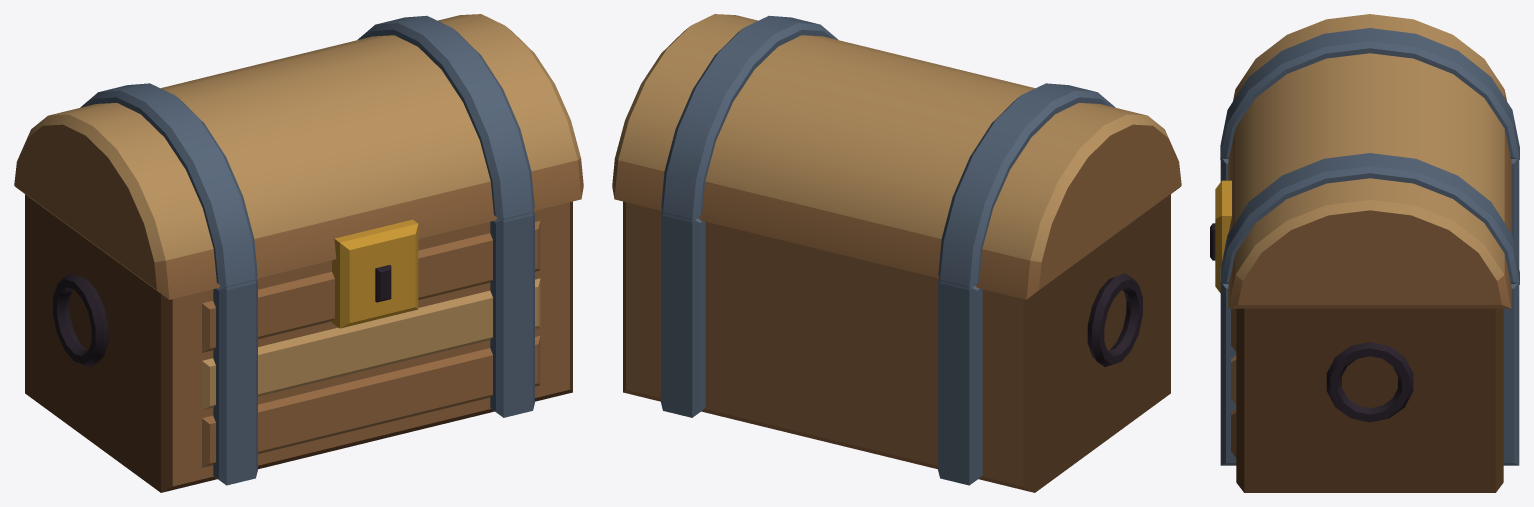
The model's file is Chest_11.glb.
3 renders of one model, left to right at view 1: azimuth 30°, elevation 25°; view 2: azimuth 150°, elevation 25°; view 3: azimuth 270°, elevation 25°, orthographic. The views are drawn at different scales.
Visible parts, largest first — view 1: Chest_11; view 2: Chest_11; view 3: Chest_11.
Boxes of the visible parts, x1,y1,x2,y2 form: Chest_11: [14, 14, 583, 492]; Chest_11: [612, 14, 1181, 492]; Chest_11: [1210, 14, 1519, 492].
Size of the model in its own units: 3.66 by 2.55 by 2.36.
